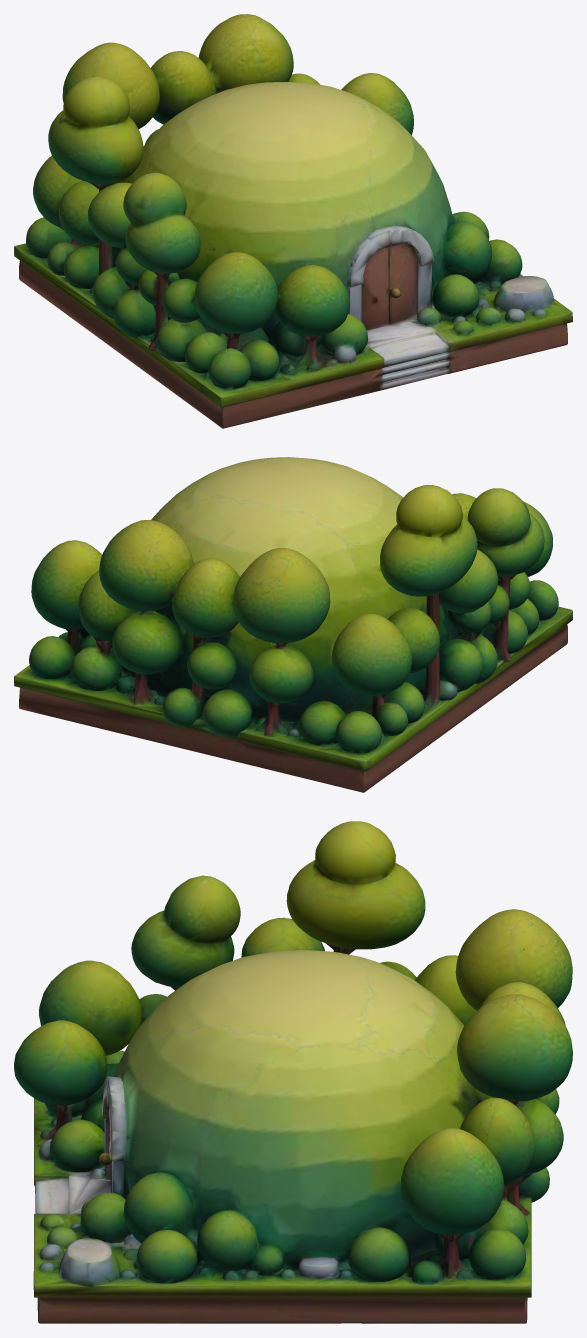
The model's file is tiny-low-poly-house.glb.
3 renders of one model, top to bottom at view 1: azimuth 30°, elevation 25°; view 2: azimuth 150°, elevation 25°; view 3: azimuth 270°, elevation 25°, orthographic. The views are drawn at different scales.
Parts seen in each view (by area): view 1: texture_pbr_v128; view 2: texture_pbr_v128; view 3: texture_pbr_v128.
Boxes of the visible parts, x1,y1,x2,y2 form: texture_pbr_v128: (14,14,572,428); texture_pbr_v128: (14,457,572,792); texture_pbr_v128: (14,821,572,1323).
Bounding box in the file's own units: 0.8191 × 0.5073 × 0.851.
Materials: 1 (1 with a texture image).
